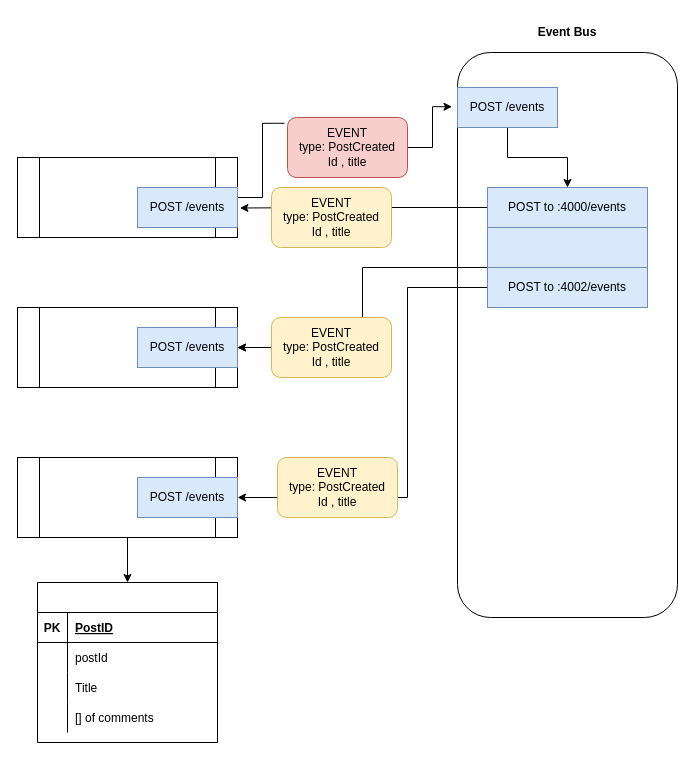
This 695x760 diagram has some shape labels left out. The shapes that lost their labels are listed below. From the top down, each one's box as (x1, y1, x2, y2) in pixels, then its label:
(16, 156, 238, 238): Posts Service
(486, 226, 648, 268): POST to :4001/events
(16, 306, 238, 388): Comments Service
(16, 456, 238, 538): Query Service
(36, 582, 218, 742): Table
